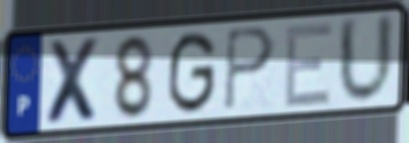8: (112, 32, 157, 122)
E: (281, 19, 335, 110)
G: (165, 28, 220, 117)
P: (223, 25, 278, 115)
U: (336, 10, 397, 108)
X: (44, 35, 104, 128)
